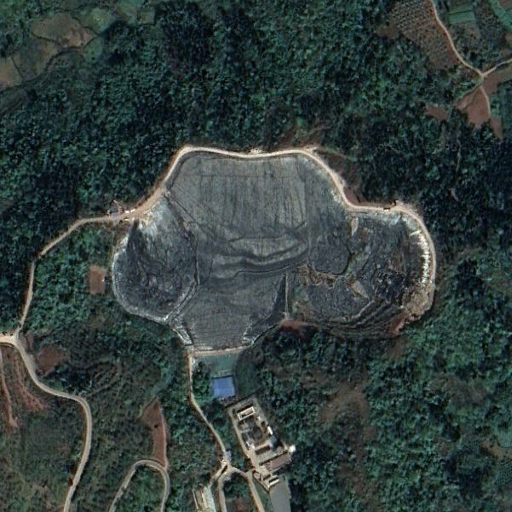lf: (110, 144, 435, 360)
